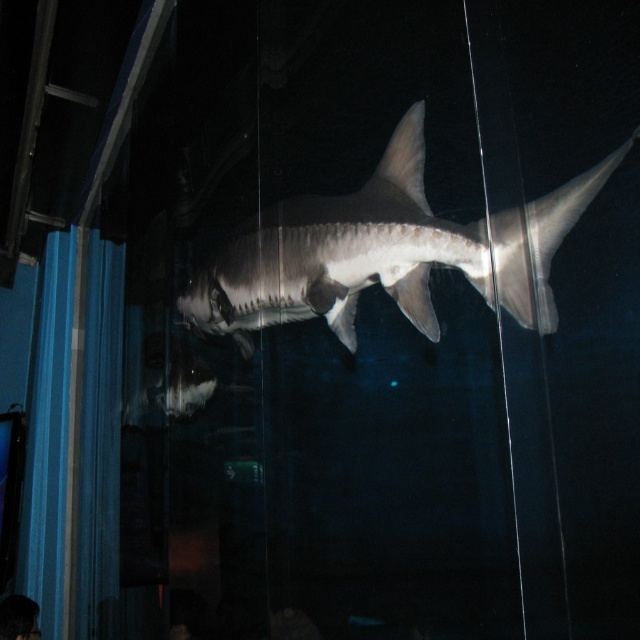Shark: (174, 100, 640, 334)
